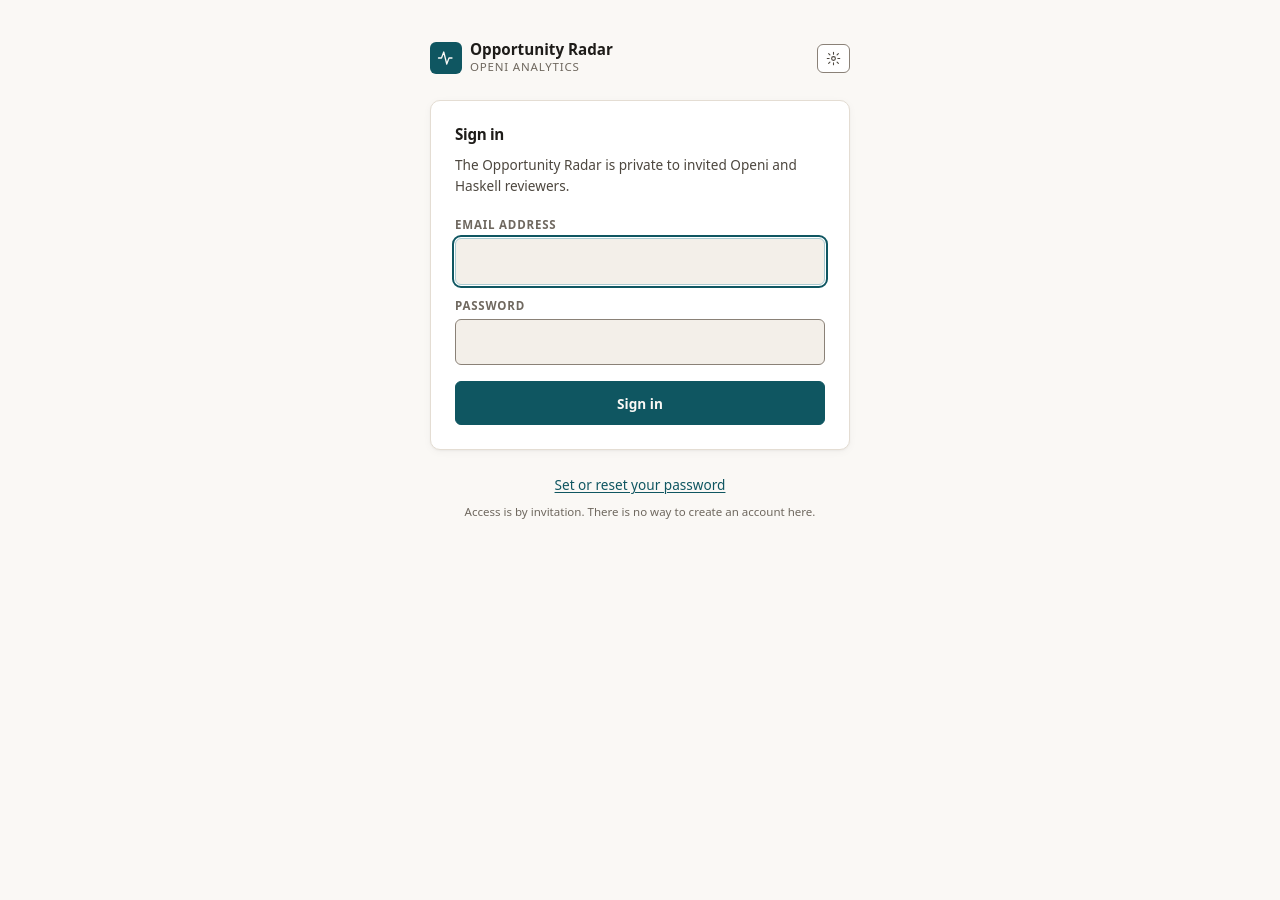
Scenario: return paths › preserves the address a signed-out visitor was trying to reach
This screenshot has width=1280, height=900.
Expected: the heading "Sign in" is shown, [455,124,504,144]
# Signing in from here must land back on the requested record.
Type "analyst@openi-analytics.invalid" into the field labelled "Email address" at (640, 261), box [455,238,825,285]
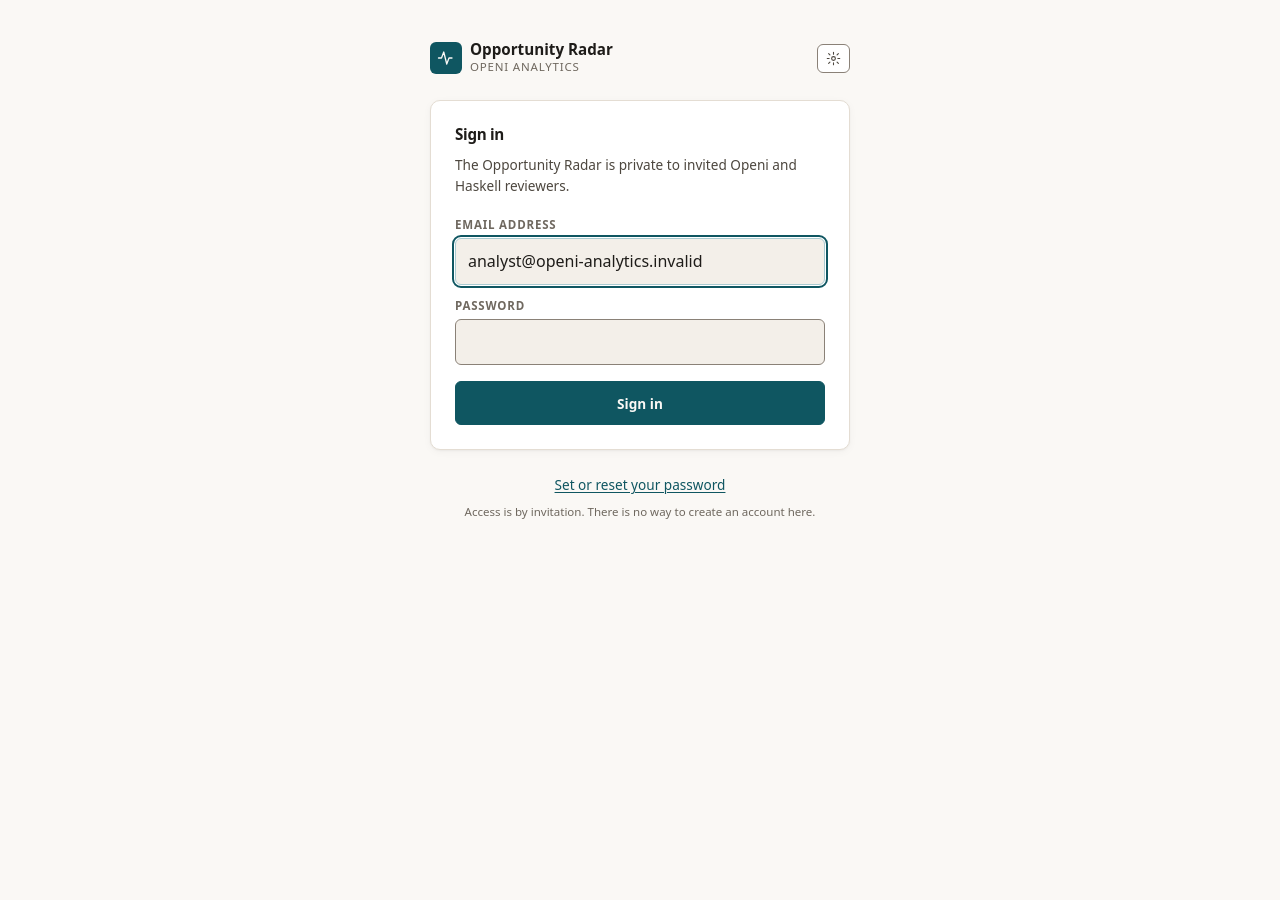
Type "a-correct-password" into the password field labelled "Password" at (640, 342), box [455,319,825,365]
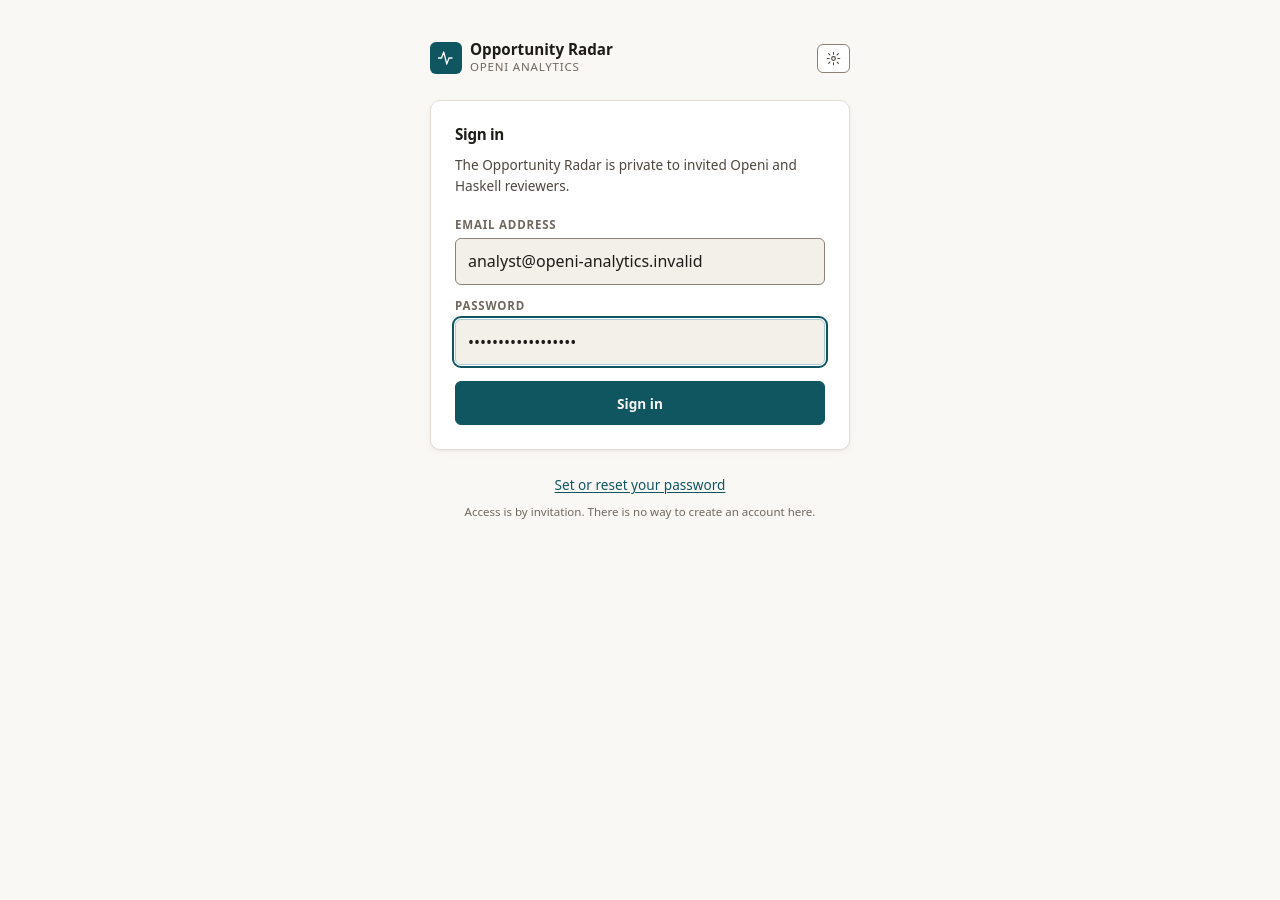
Click the button "Sign in" at (640, 403), box [455,381,825,425]
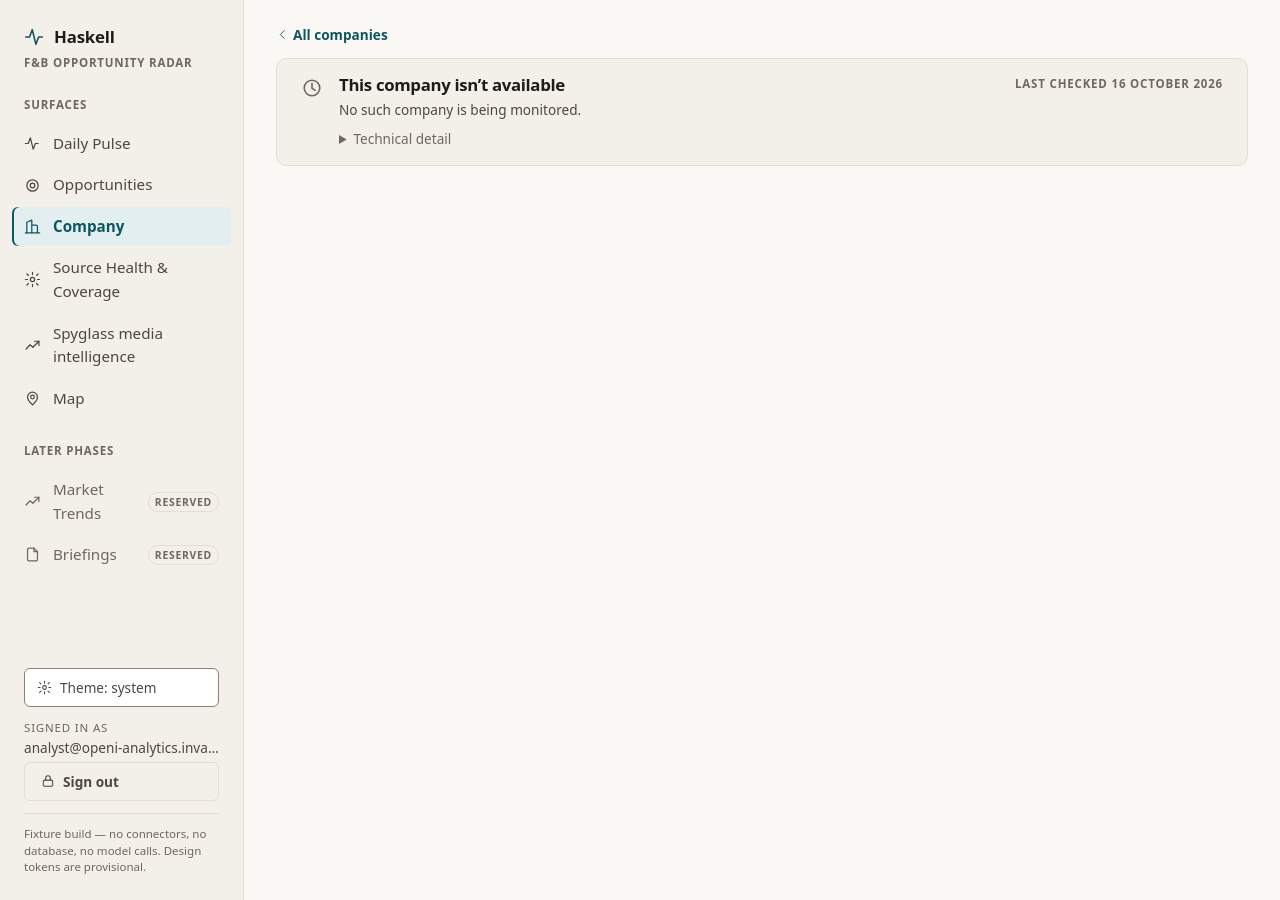
Expected: the navigation bar named "Primary" is shown, [0,0,244,899]
